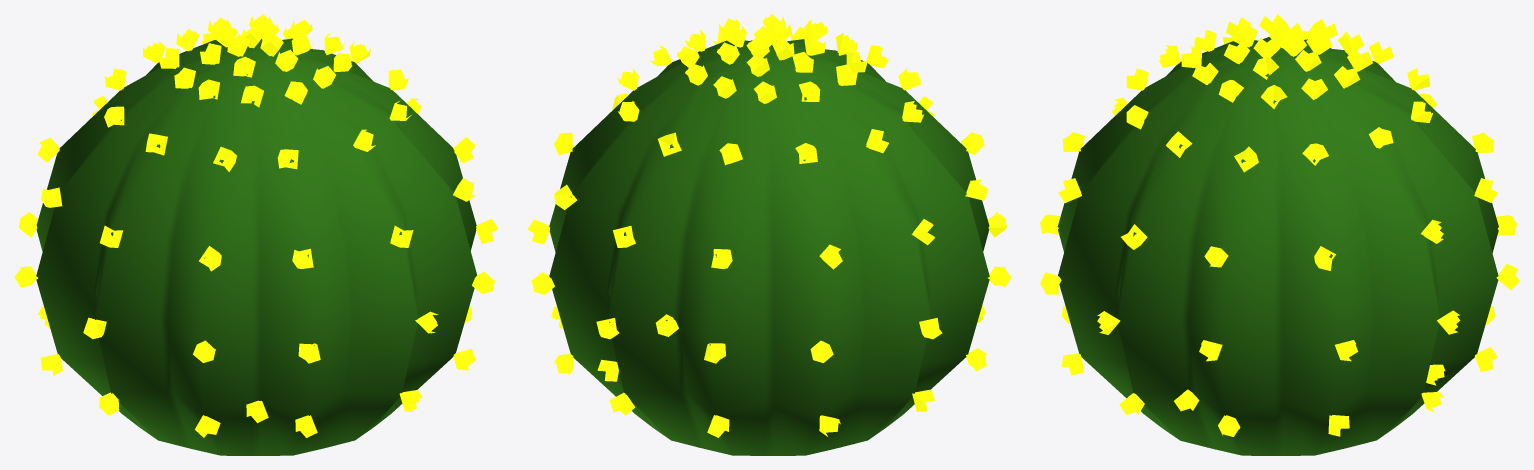
Rendered from cactusball02.fbx.
3 views of the same model, side by side, from view 1: azimuth 30°, elevation 25°; view 2: azimuth 150°, elevation 25°; view 3: azimuth 270°, elevation 25° (orthographic).
Visible parts, largest first — view 1: Sphere; view 2: Sphere; view 3: Sphere.
Part boxes in pixels (x1,y1,x2,y2): Sphere: [14, 14, 498, 455]; Sphere: [527, 14, 1011, 455]; Sphere: [1040, 14, 1519, 455].
Size of the model in its own units: 54.09 by 45.54 by 54.45.
